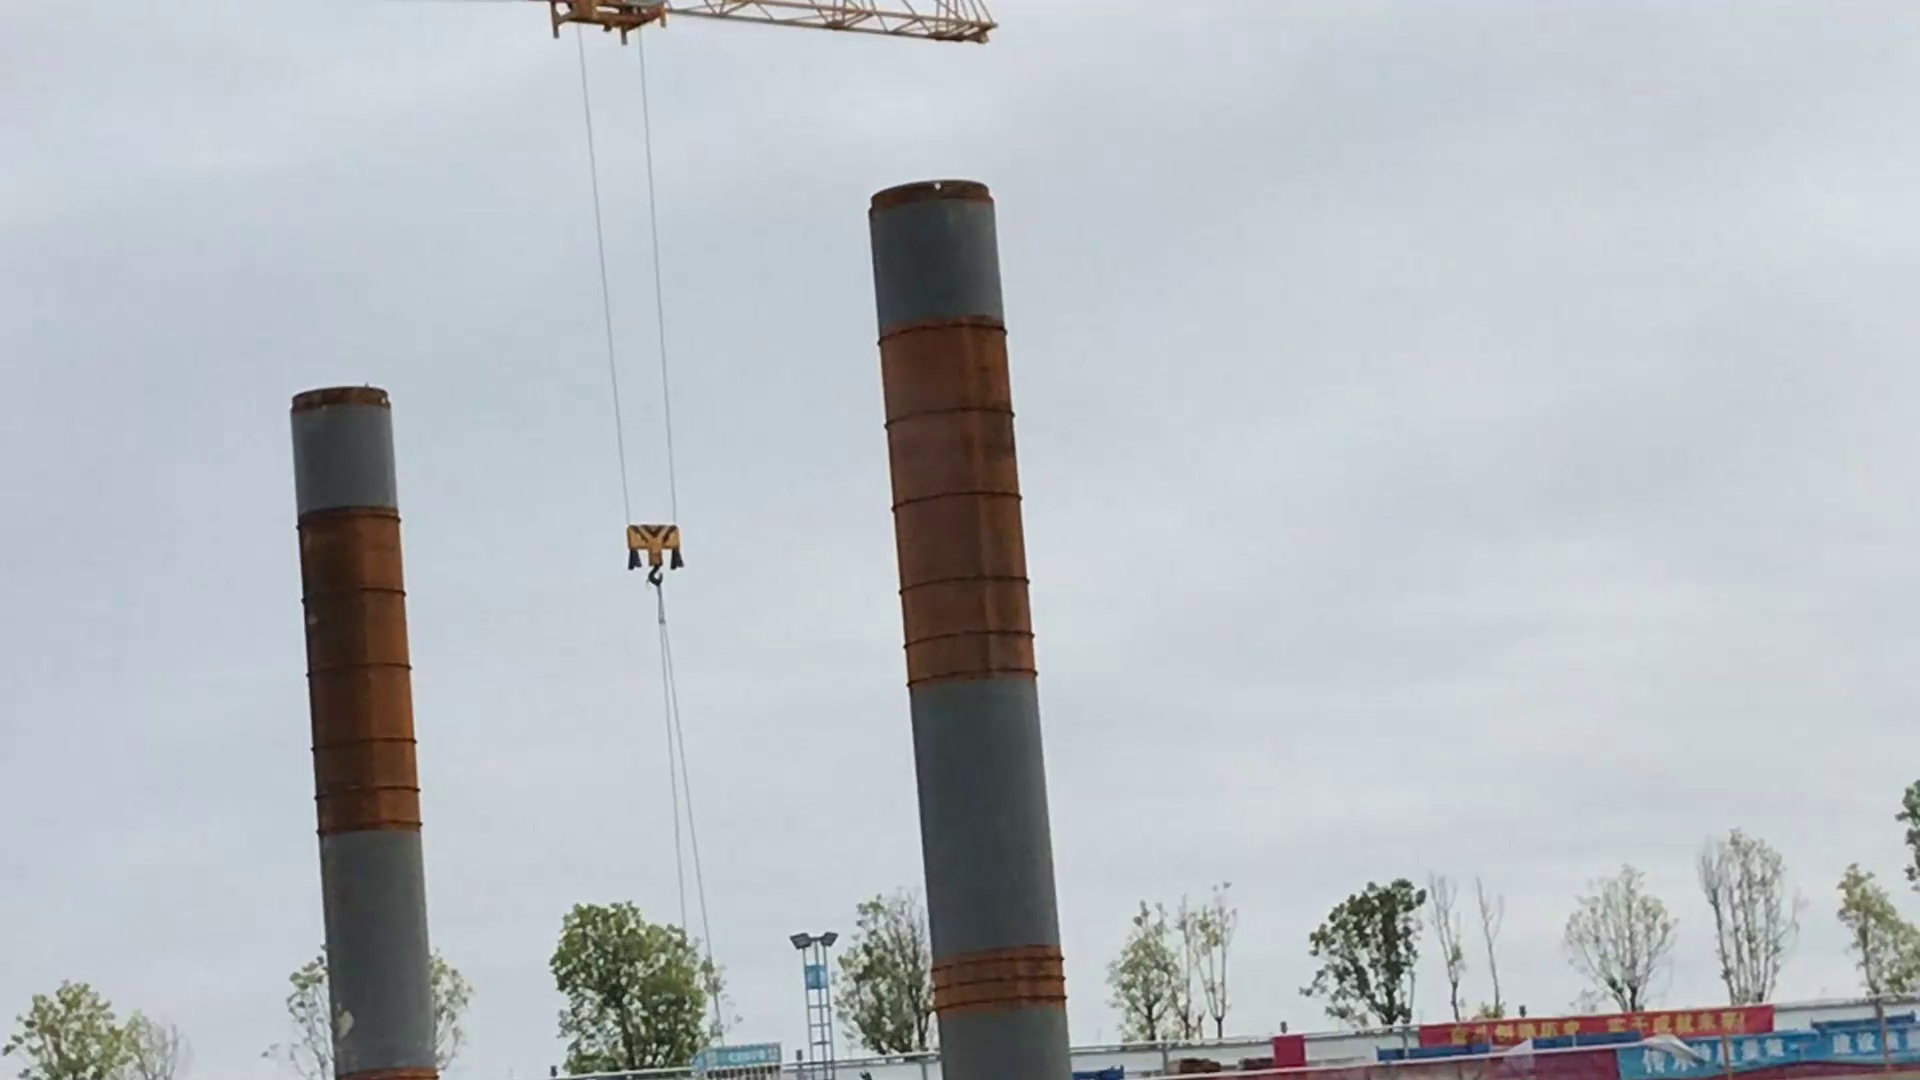hook: (620, 518, 690, 589)
slogan: (1416, 1005, 1772, 1050), (1622, 1029, 1911, 1079)
